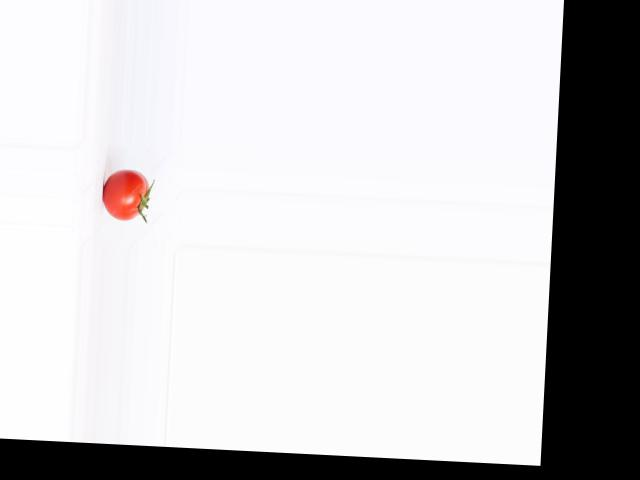tomato: (101, 167, 149, 221)
